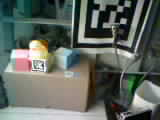duck: (20, 34, 52, 69)
